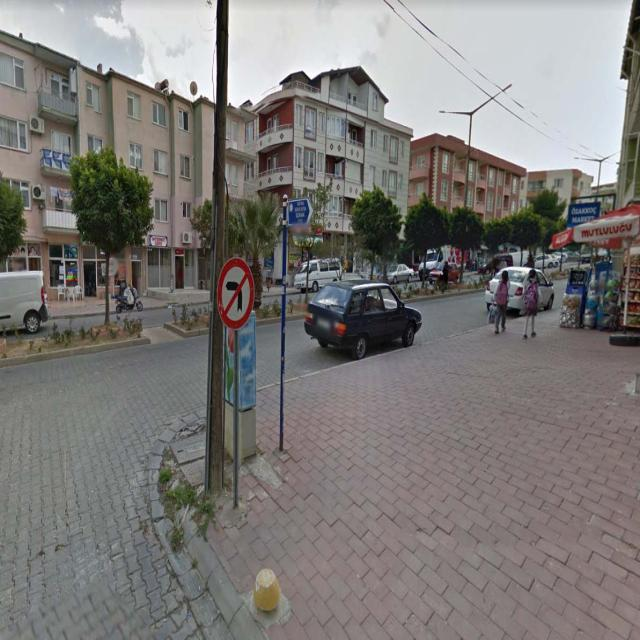soladonulmez: (216, 256, 258, 333)
